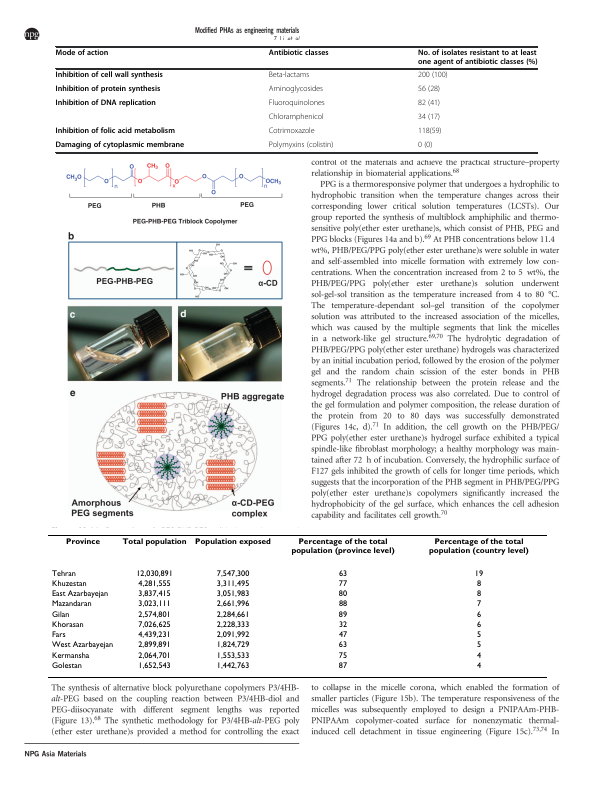borderless: (47, 533, 547, 677), (54, 45, 537, 152)
cell: (417, 49, 538, 67), (290, 538, 395, 556), (428, 538, 529, 556), (55, 141, 185, 151), (55, 127, 176, 137), (55, 71, 164, 81), (55, 85, 161, 95), (55, 99, 157, 109), (194, 538, 271, 547), (268, 141, 334, 151), (121, 538, 187, 547), (268, 99, 326, 109), (50, 641, 114, 650), (268, 85, 324, 95), (268, 113, 324, 123), (268, 49, 330, 58), (50, 590, 109, 599), (55, 49, 109, 58), (268, 127, 315, 137), (268, 71, 310, 81), (50, 651, 90, 661), (135, 569, 173, 579), (50, 600, 92, 609), (50, 579, 87, 589), (215, 569, 250, 579), (215, 579, 250, 589), (215, 610, 250, 620), (215, 620, 250, 630), (215, 651, 250, 661), (215, 661, 250, 671), (137, 579, 171, 589), (137, 610, 171, 620), (50, 620, 84, 630), (137, 620, 171, 630), (137, 651, 171, 661), (137, 661, 171, 671), (50, 661, 82, 671), (65, 538, 100, 547), (215, 590, 250, 599), (215, 600, 250, 609), (215, 631, 250, 640), (215, 641, 250, 650), (417, 71, 448, 81), (137, 590, 171, 599), (137, 600, 171, 609), (137, 631, 171, 640), (137, 641, 171, 650), (50, 569, 76, 579), (417, 127, 442, 137), (417, 85, 441, 95), (417, 99, 441, 109), (417, 113, 441, 123), (50, 610, 70, 620), (417, 141, 433, 151), (50, 631, 66, 640), (337, 569, 348, 579), (473, 569, 484, 579), (337, 579, 348, 589), (337, 610, 348, 620), (337, 620, 348, 630), (337, 651, 348, 661), (337, 661, 348, 671), (337, 590, 348, 599), (337, 600, 348, 609), (337, 631, 348, 640), (337, 641, 348, 650), (475, 620, 482, 630), (475, 661, 482, 671), (475, 590, 482, 599), (475, 600, 482, 609), (475, 631, 482, 640), (475, 641, 482, 650), (475, 579, 481, 589), (475, 610, 481, 620), (475, 651, 481, 661)
